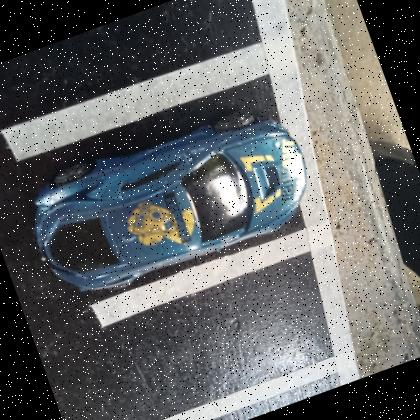Car: (33, 109, 307, 290)
